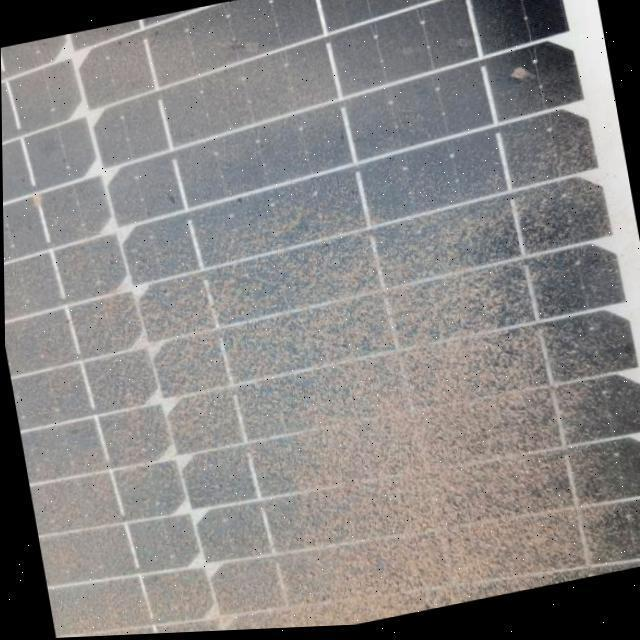Surface Contaminant: (1, 0, 640, 638)
